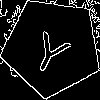Y: (27, 22, 77, 78)
